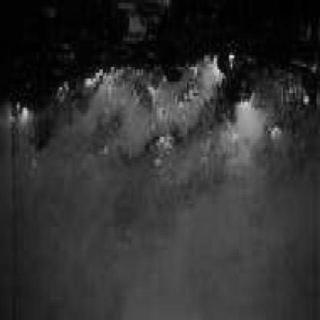Fire: (11, 55, 288, 228)
